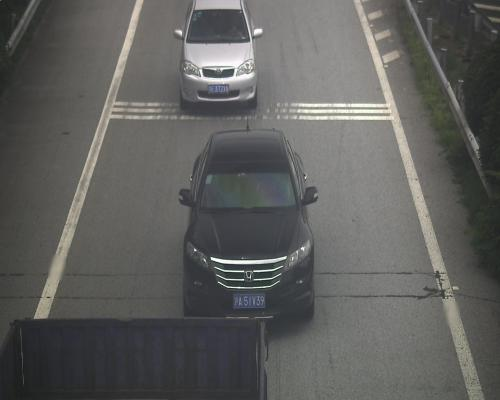Carplate: (230, 287, 270, 313), (206, 81, 232, 98)
